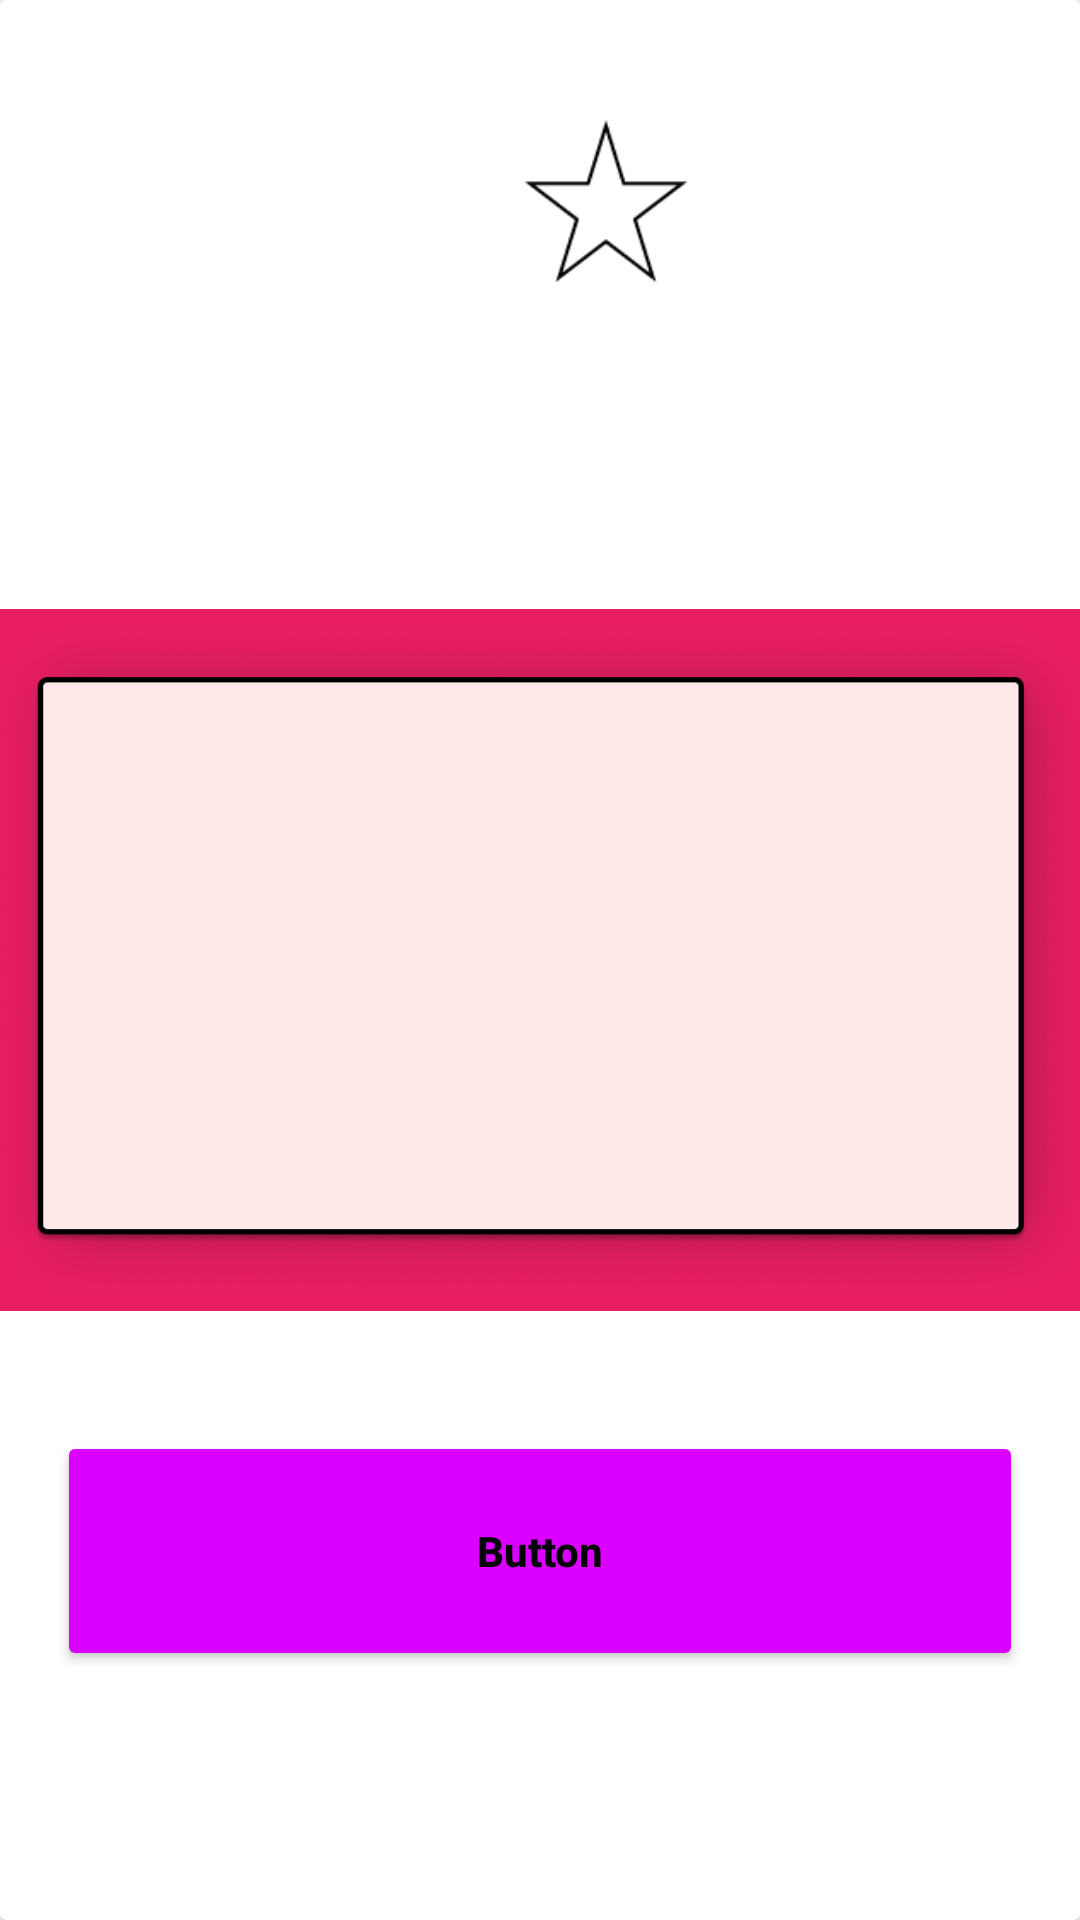

Point at icon controls on the screen. Image size 1080x1920, points as [x,y].
staroff: [606,201]
